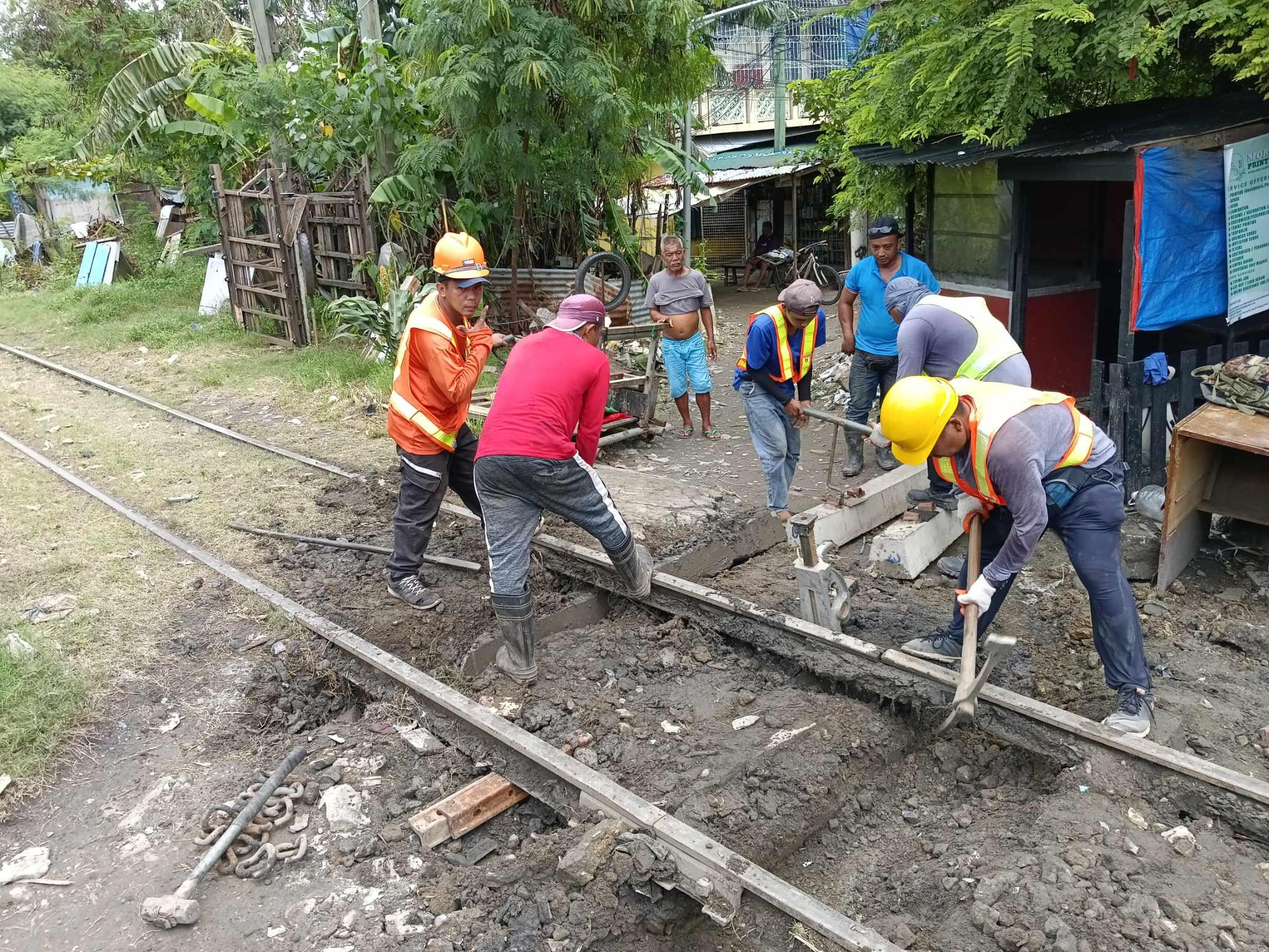railway-gap: (620, 778, 704, 861), (852, 622, 912, 681)
